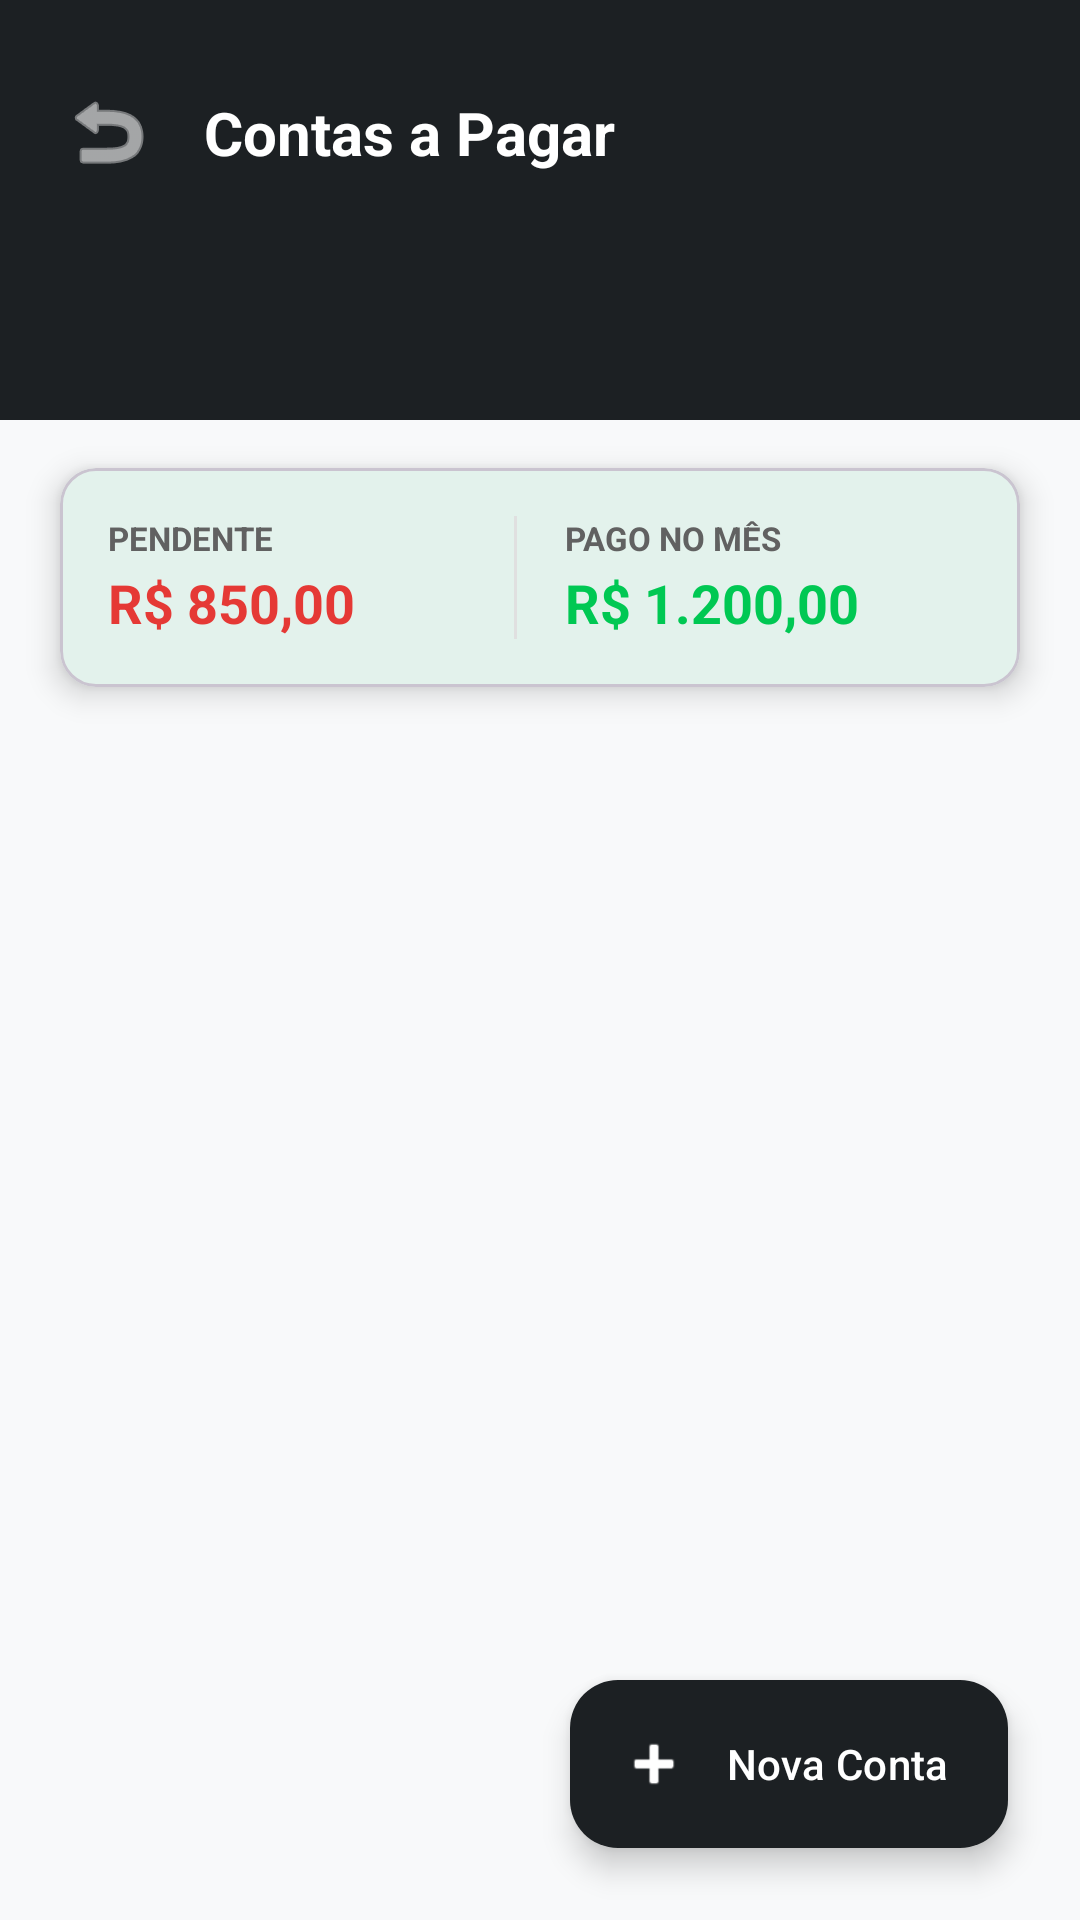

Icon bounding boxes for this 1080×1920 phone screenshot, format (x1, y1, x2, y2):
Voltar: (75, 101, 144, 164)
